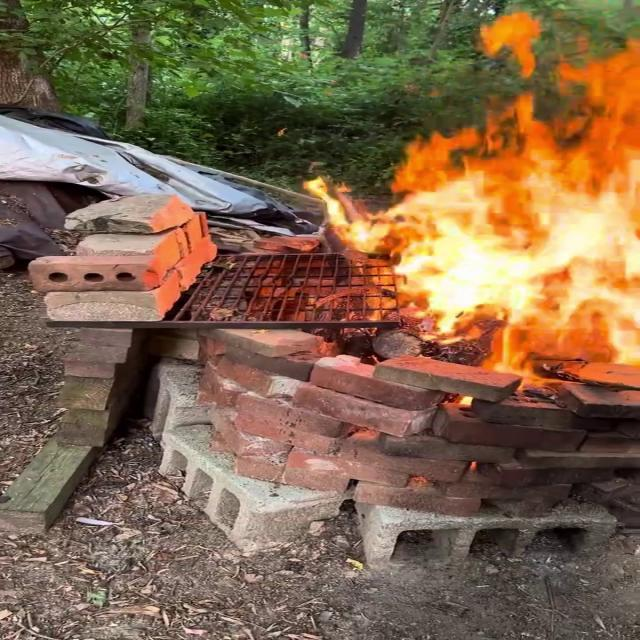Fire: (310, 2, 636, 377)
